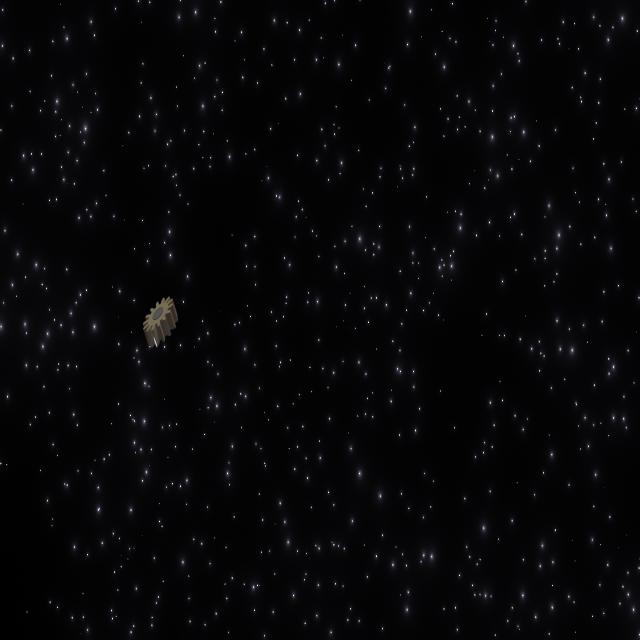large_debris: (139, 295, 186, 357)
